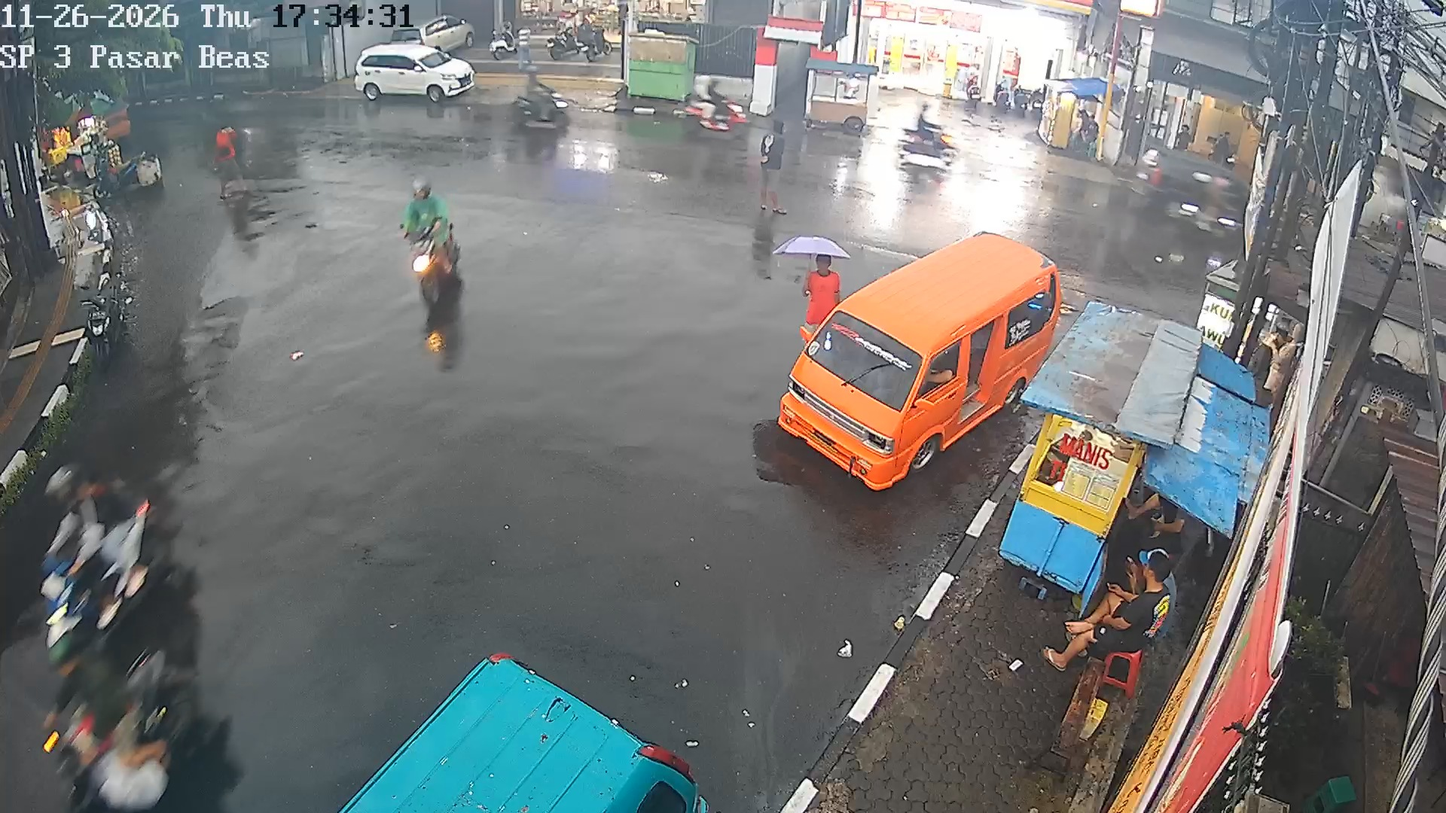Gerobak: (998, 400, 1151, 599)
